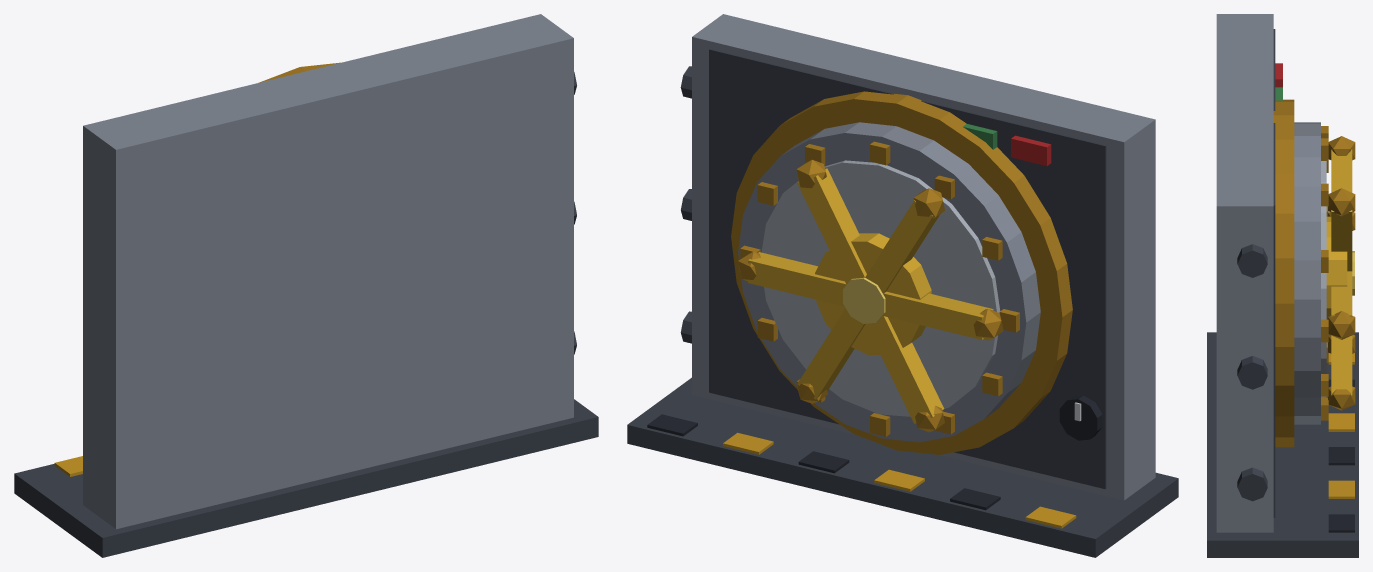
File: Decor_GoldVault_VaultDoor.fbx
3 views of the same model, side by side, from view 1: azimuth 30°, elevation 25°; view 2: azimuth 150°, elevation 25°; view 3: azimuth 270°, elevation 25° (orthographic). The views are drawn at different scales.
Parts seen in each view (by area): view 1: VaultDoor_Body; view 2: VaultDoor_Body; view 3: VaultDoor_Body.
Part boxes in pixels (x1=…): VaultDoor_Body: x1=14, y1=14, x2=598, y2=557; VaultDoor_Body: x1=627, y1=14, x2=1178, y2=557; VaultDoor_Body: x1=1207, y1=14, x2=1358, y2=557.
Bounding box in the file's own units: 26 × 20 × 8.
